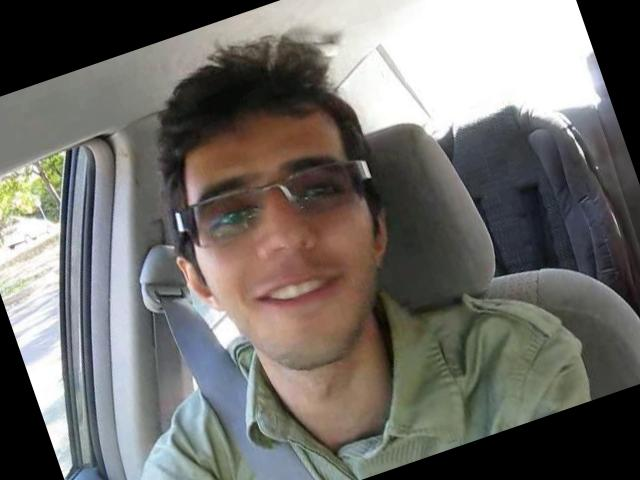eye_open: (198, 192, 268, 246), (288, 173, 350, 216)
face: (162, 105, 416, 394)
